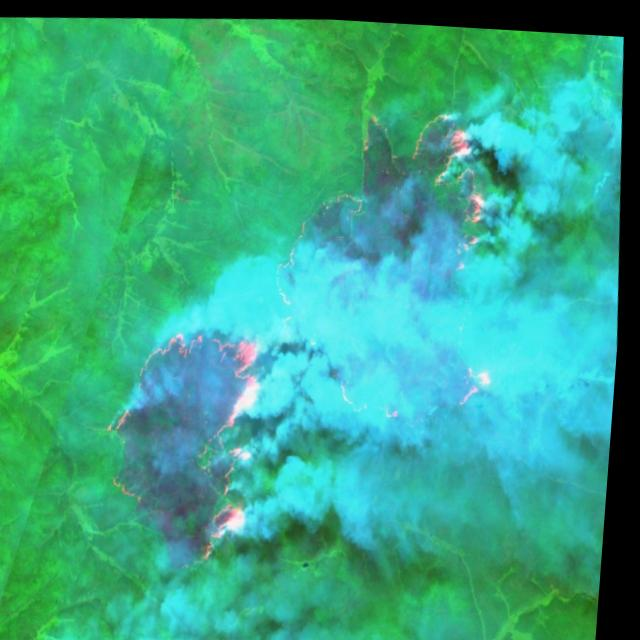fire: (99, 314, 285, 573), (399, 94, 500, 276), (446, 333, 504, 409)
